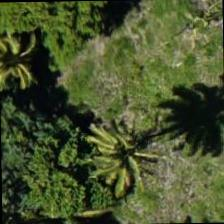Kelapa_Sawit: (76, 105, 168, 197)
